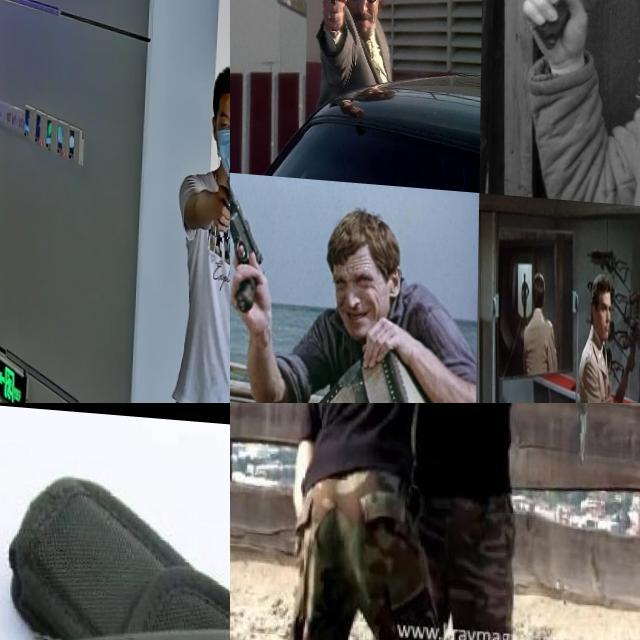-: (569, 403, 598, 478)
gun-knife-thesis - v11 Yolov5 augmented: (501, 0, 607, 93), (230, 169, 272, 316), (212, 152, 230, 234), (322, 0, 347, 36), (626, 384, 640, 403)
